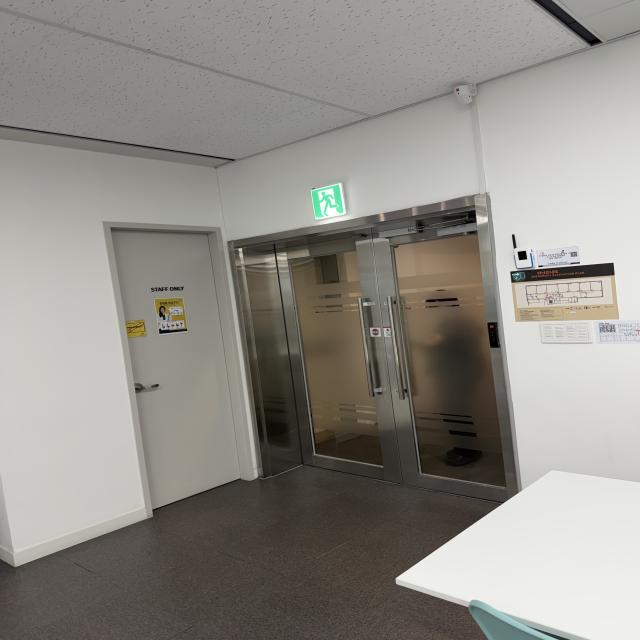rear_door: (275, 214, 516, 502)
